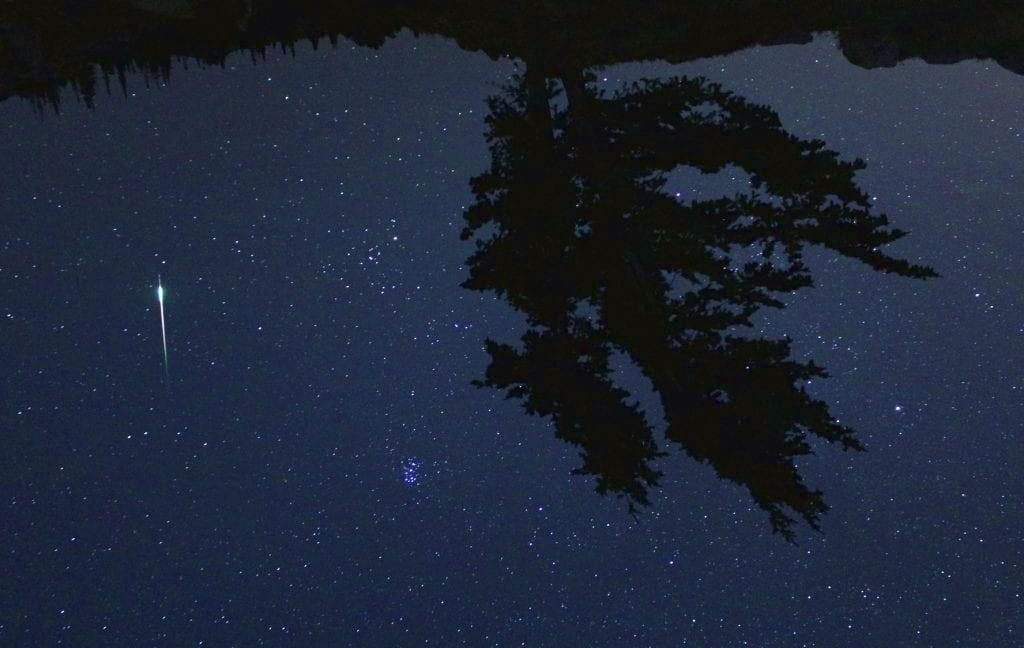meteorite: (146, 261, 181, 392)
